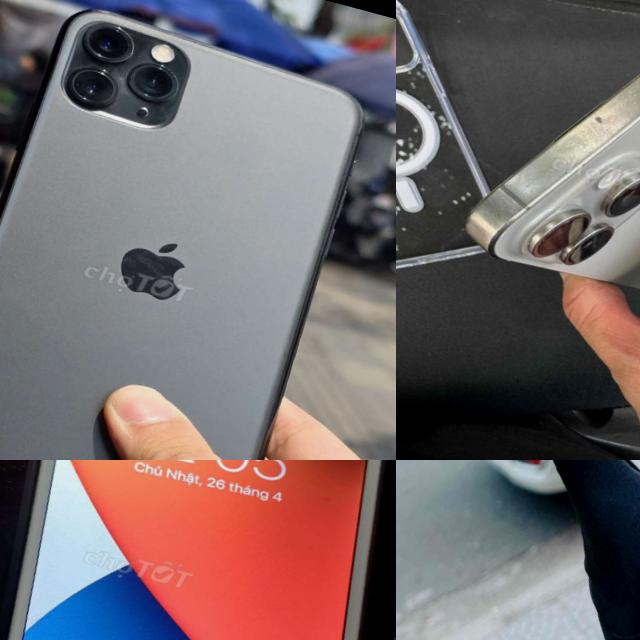gen_11: (0, 0, 382, 460)
gen_12_13: (466, 460, 640, 640)
gen_15: (452, 0, 640, 320)
scratch: (0, 460, 396, 640), (492, 18, 640, 257)
